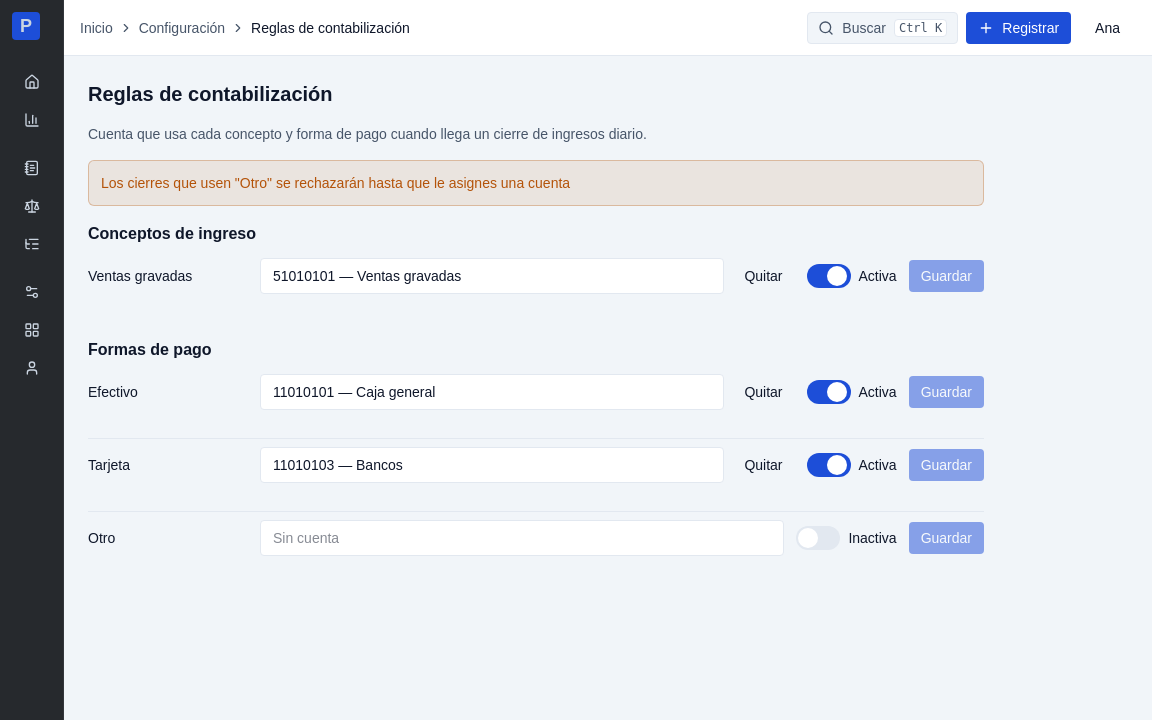
Test: pestaña Reglas de Configuración › el PUT lleva If-Match: "<version>" y el cuerpo completo
In the dropdown with placeholder "Sin cuenta": (522, 538) [260, 520, 784, 556], type "bancos"
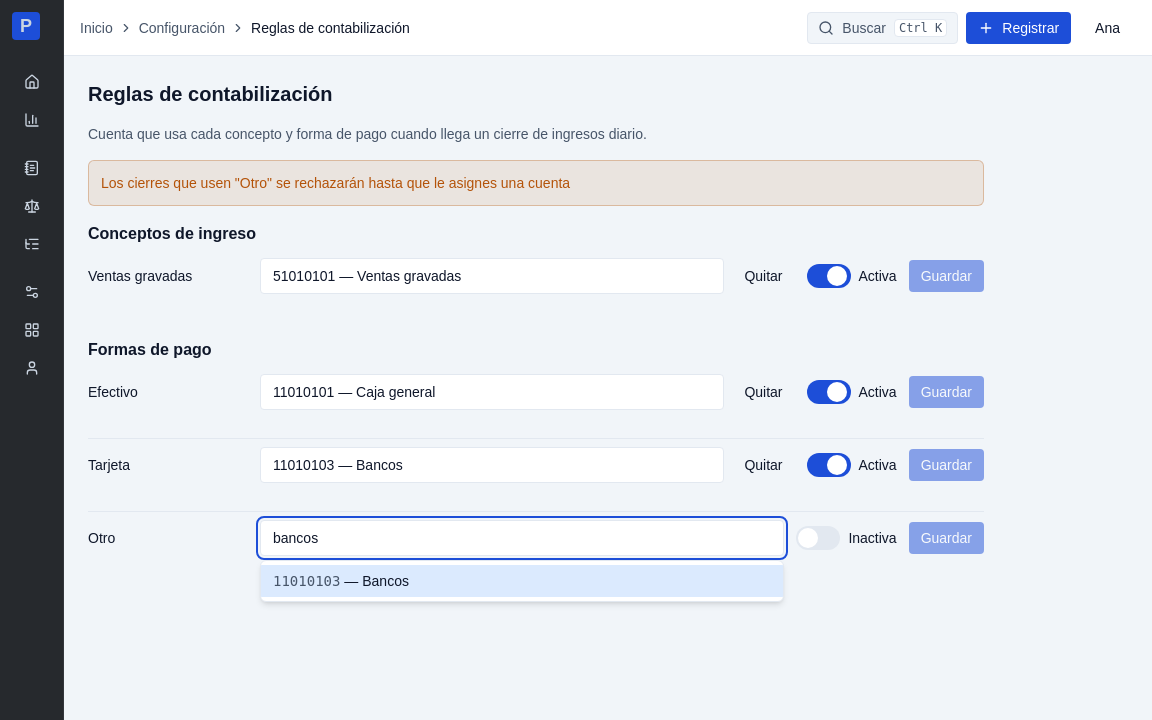
Press Enter
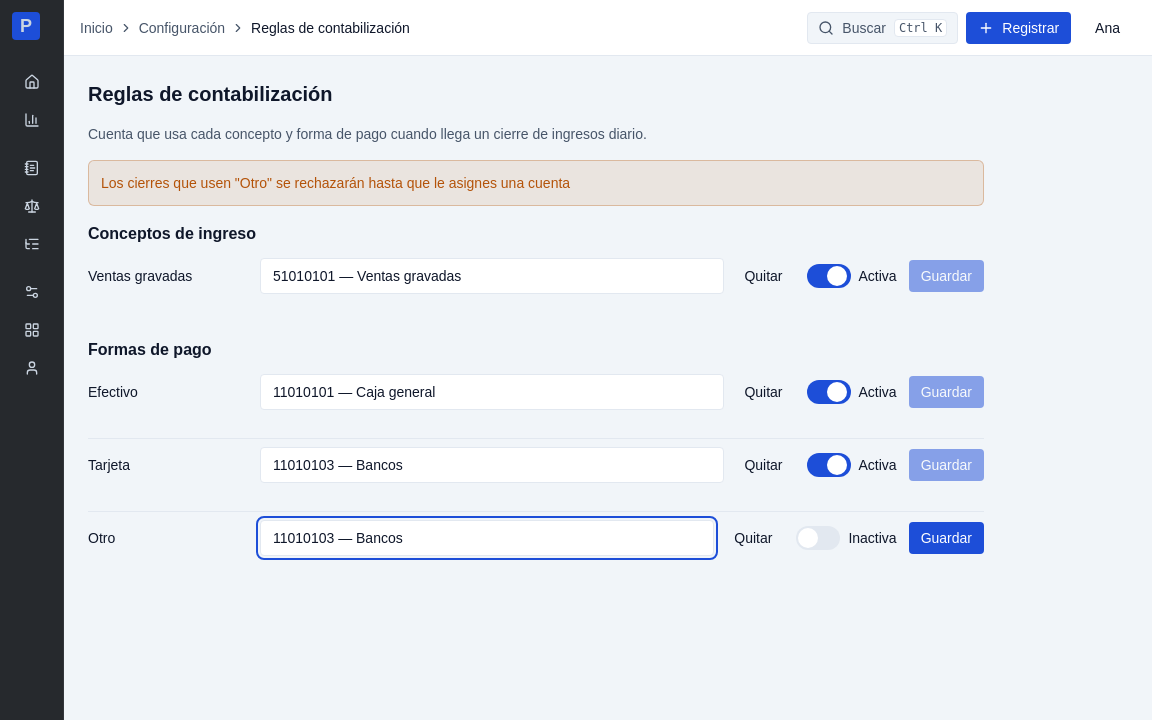
Click the switch named "Regla activa: Otro": (818, 538) [796, 526, 840, 550]
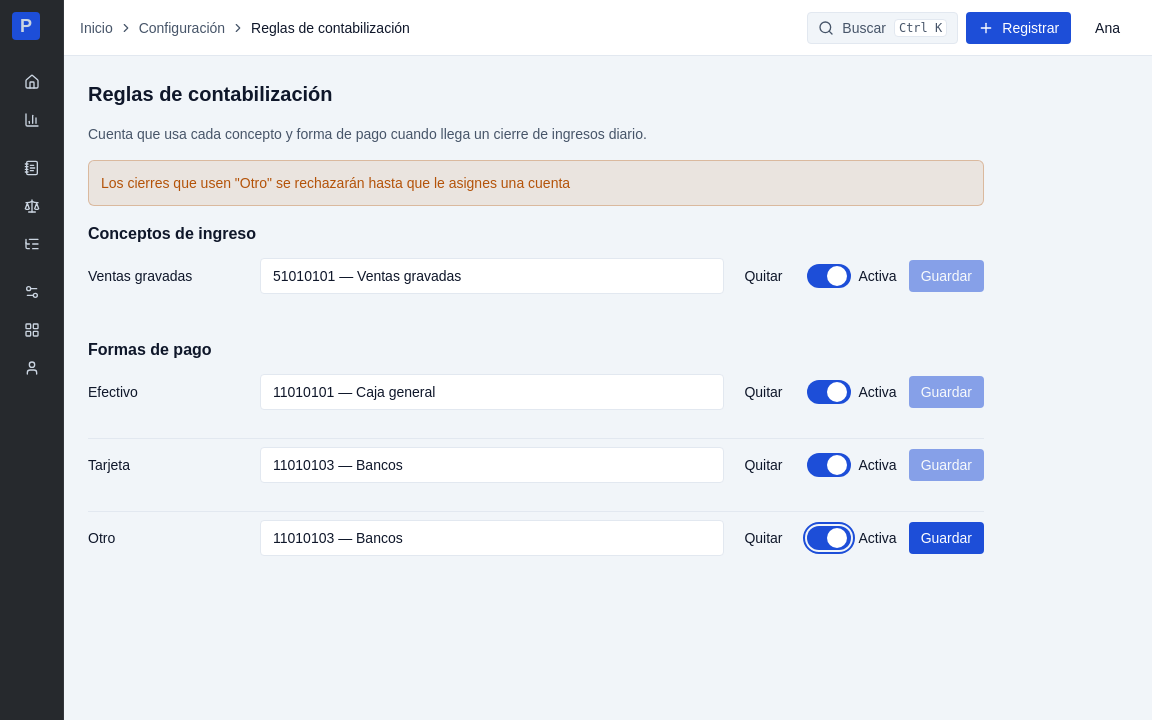
Click the button with aria-label "Guardar Otro": (946, 538) [909, 522, 984, 554]
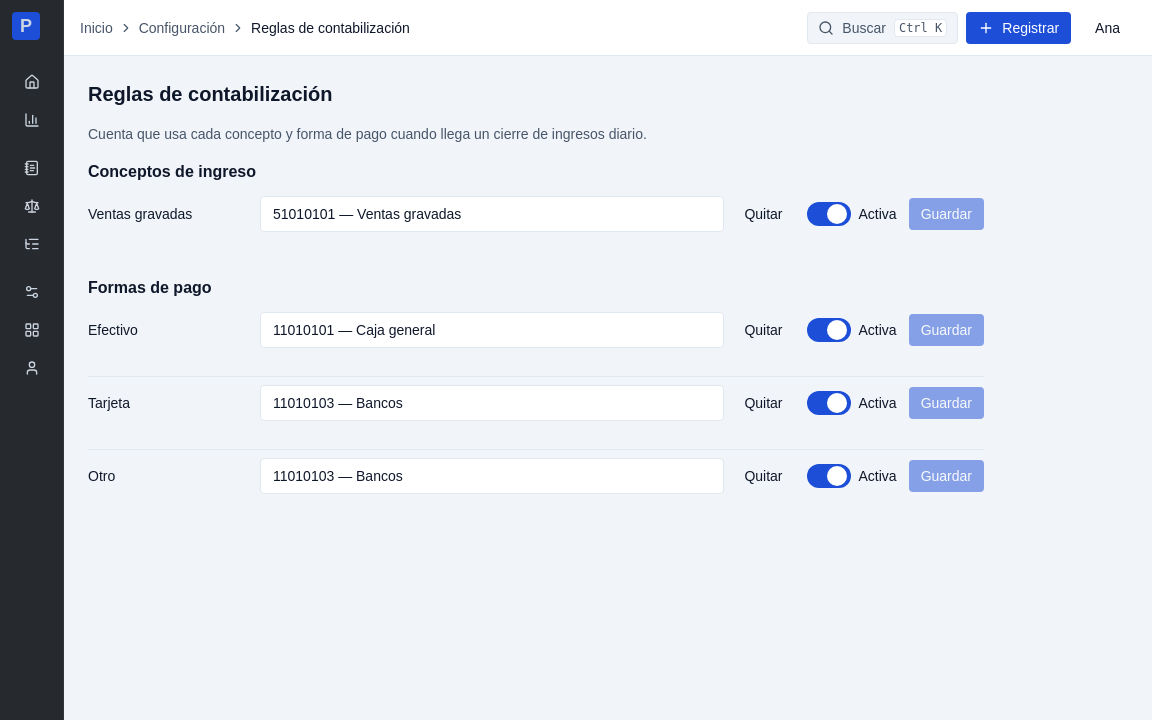
Expected: the text "Los cierres que usen" is gone
